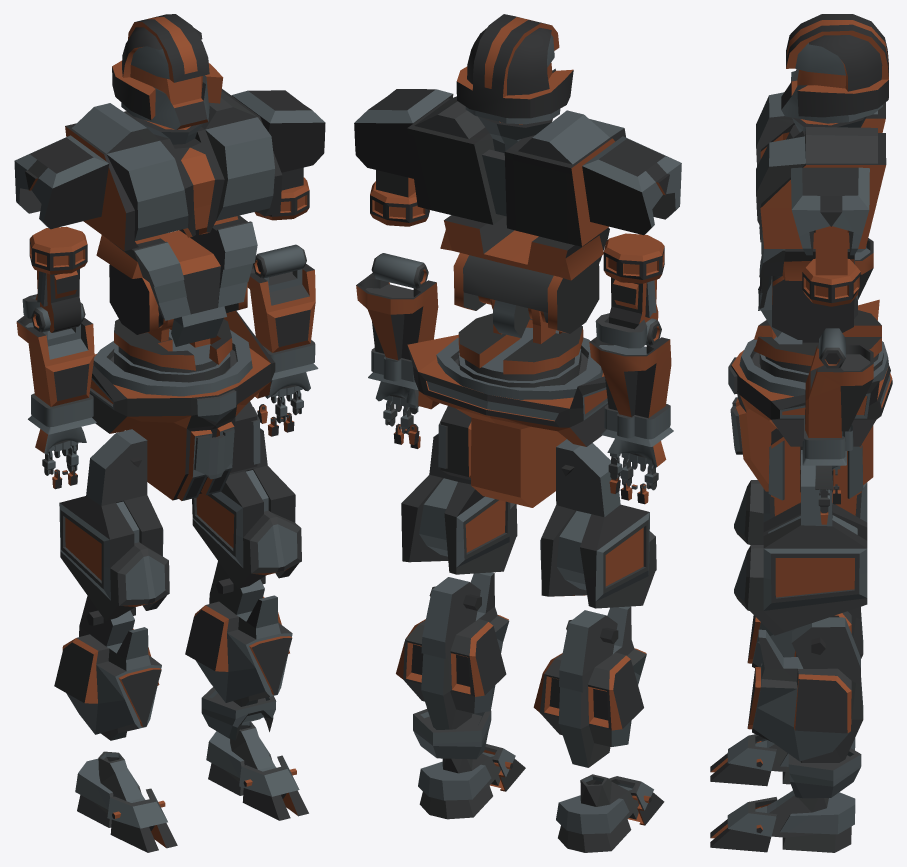
File: X1 Chunks.fbx
3 renders of one model, left to right at view 1: azimuth 30°, elevation 25°; view 2: azimuth 150°, elevation 25°; view 3: azimuth 270°, elevation 25°, orthographic. The views are drawn at different scales.
Parts seen in each view (by area): view 1: Torso.007, Legs, Legs.008, Torso.003, Legs.003, Legs.014, Legs.013, Head, Torso.029, Torso.051, Torso.016, Torso (+12 smaller); view 2: Torso.007, Legs, Legs.008, Legs.014, Legs.013, Head, Legs.003, Torso.002, Torso.029, Torso.016, Torso.051, Torso (+14 smaller); view 3: Legs.003, Legs.013, Torso.007, Head, Legs, Torso.029, Torso.011, Legs.015, Torso.002, Torso, Legs.001, Legs.008 (+10 smaller).
Part boxes in pixels (box(x1,y1,x2,y2)): Torso.007: box(65, 89, 282, 251); Legs: box(89, 311, 275, 500); Legs.008: box(59, 429, 169, 620); Torso.003: box(96, 215, 257, 320); Legs.003: box(192, 428, 301, 588); Legs.014: box(54, 596, 161, 740); Legs.013: box(185, 561, 292, 706); Head: box(112, 14, 223, 129); Torso.029: box(247, 244, 318, 380); Torso.051: box(16, 303, 96, 434); Torso.016: box(14, 135, 108, 229); Torso: box(114, 319, 232, 382); Torso.007: box(407, 96, 625, 246); Legs: box(407, 334, 607, 507); Legs.008: box(540, 439, 656, 608); Legs.014: box(533, 606, 646, 767); Legs.013: box(396, 572, 509, 729); Head: box(456, 14, 573, 124); Legs.003: box(401, 433, 517, 574); Torso.002: box(453, 253, 599, 337); Torso.029: box(356, 253, 438, 389); Torso.016: box(582, 136, 681, 235); Torso.051: box(589, 318, 673, 446); Torso: box(458, 313, 583, 387); Legs.003: box(734, 450, 867, 635); Legs.013: box(747, 617, 863, 762); Torso.007: box(756, 92, 886, 248); Head: box(781, 14, 888, 123); Legs: box(728, 299, 892, 495); Torso.029: box(802, 328, 873, 465); Torso.011: box(791, 167, 869, 255); Legs.015: box(755, 790, 855, 852); Torso.002: box(758, 255, 857, 339); Torso: box(754, 310, 883, 382); Legs.001: box(768, 428, 863, 503); Legs.008: box(734, 480, 867, 544).
Bounding box in the file's own units: 416 × 1079 × 227.
